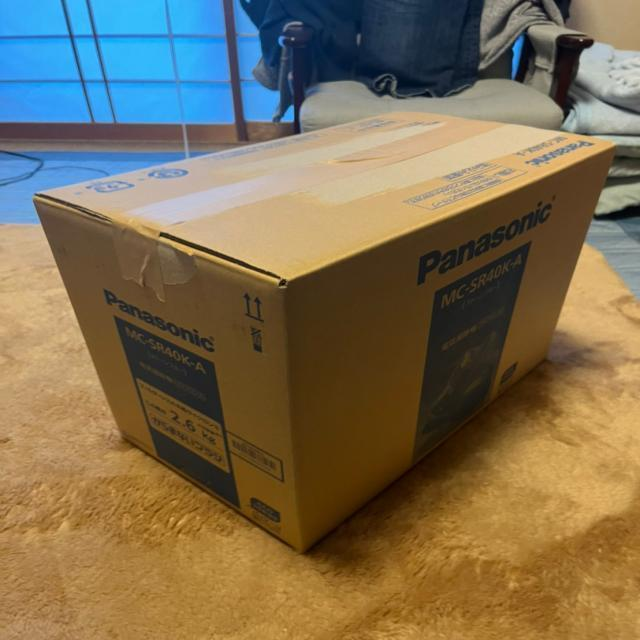box: (26, 106, 622, 558)
